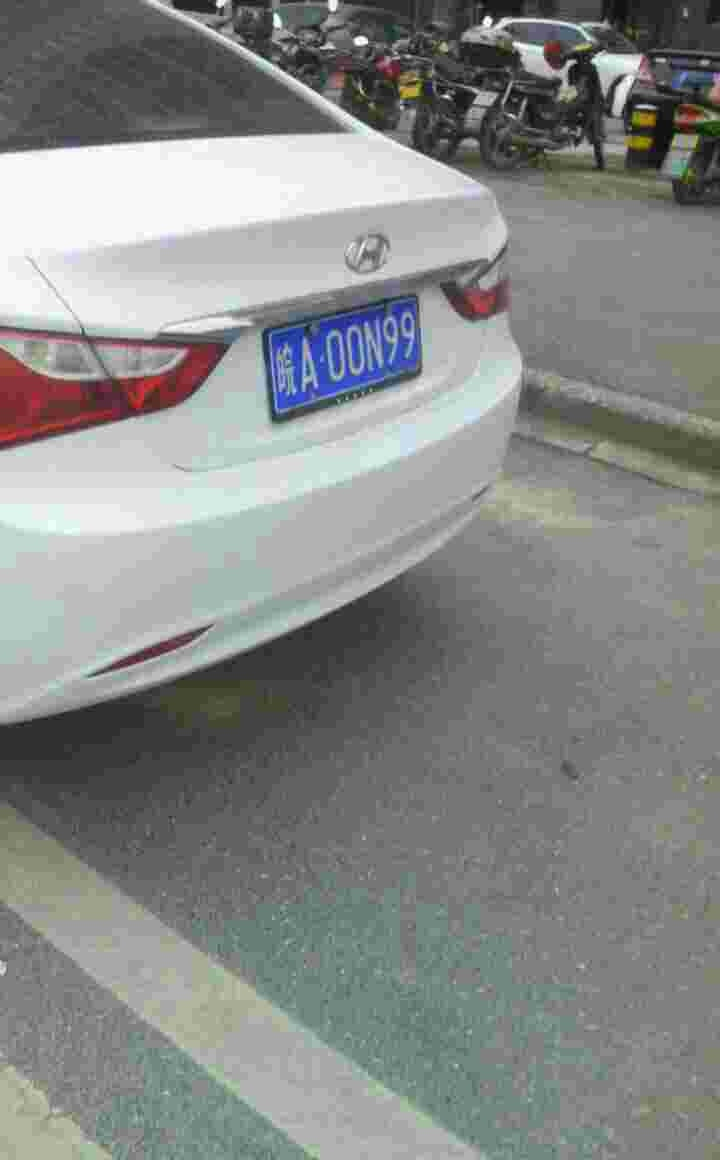license_plate: (274, 296, 429, 408)
